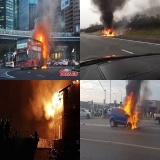fire: (119, 91, 138, 128), (43, 89, 63, 120), (38, 35, 46, 59), (100, 28, 116, 37), (71, 80, 80, 85), (42, 65, 47, 69), (32, 66, 37, 69)
